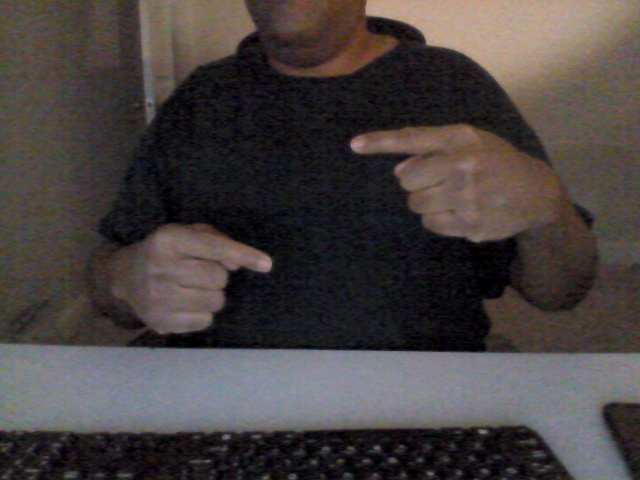go: (125, 121, 534, 341)
